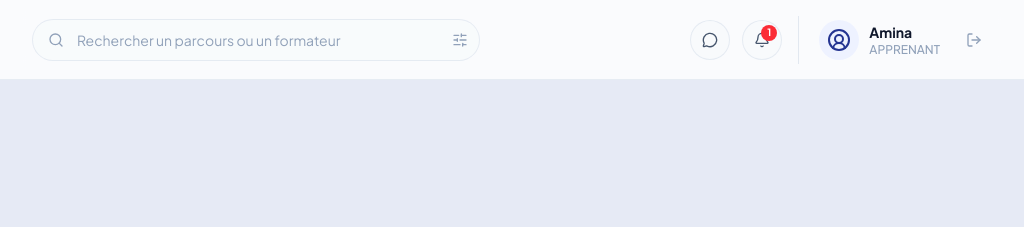
Topbar › ouvre le panneau de notifications et affiche le contenu
Check: the text "1" is shown, box x1=761 y1=24 x2=777 y2=40
Click the button named "Ouvrir les notifications" at [762, 40], box x1=742 y1=20 x2=782 y2=60
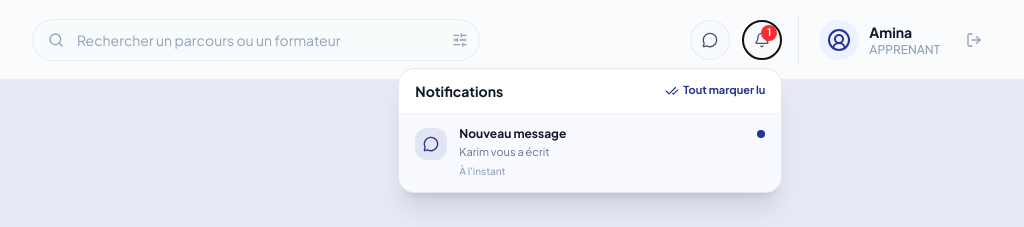
Check: the text "Nouveau message" is shown, box x1=459 y1=126 x2=566 y2=140
Check: the text "Karim vous a écrit" is shown, box x1=459 y1=144 x2=550 y2=158
Check: the button "Tout marquer lu" is shown, box x1=665 y1=82 x2=765 y2=99
